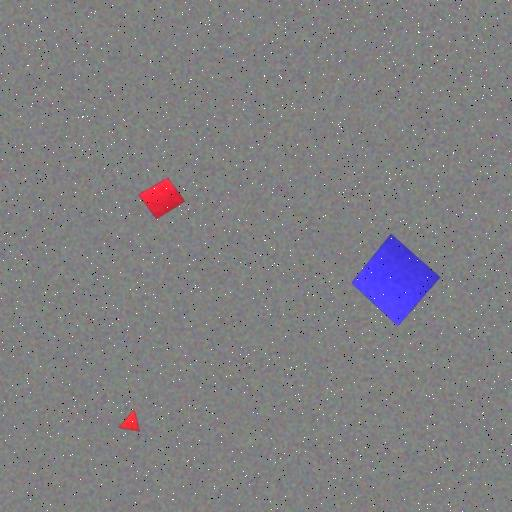BLUE_SQUARE: (350, 233, 442, 326)
RED_SQUARE: (138, 178, 186, 220)
